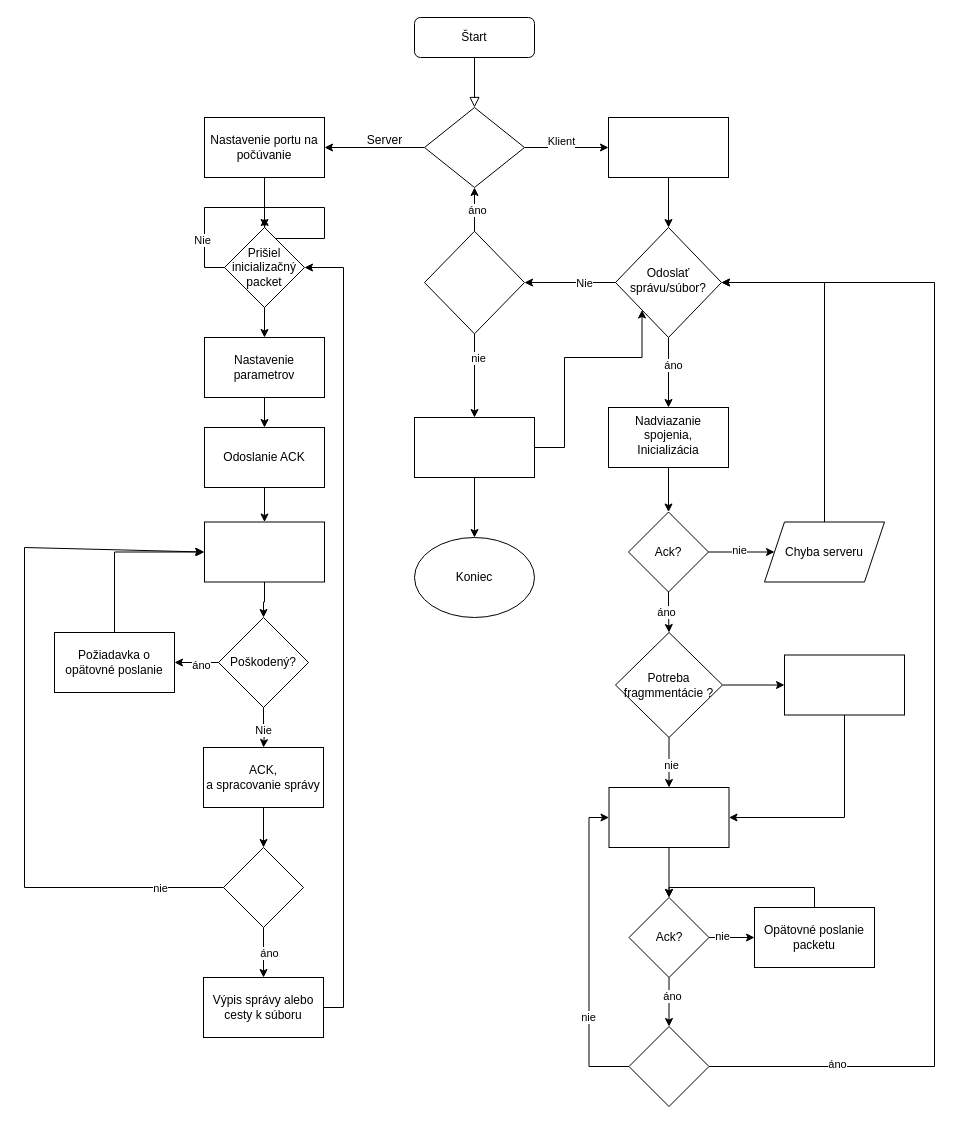
This 960x1124 diagram has some shape labels left out. Here are the shapes that lost their labels. From the top down, the centre of each, then its label:
(x=474, y=147): Server/Klient
(x=668, y=147): Nastavenie IP a portu servera, velkosť fragmentu
(x=474, y=282): Zmeniť rolu?
(x=474, y=447): začatie timeoutu
(x=264, y=551): Prijatie Packetu
(x=844, y=684): Rozdelenie na fragmenty
(x=668, y=817): Odoslanie packetu
(x=263, y=887): Posledný packet?
(x=668, y=1066): Posledný fragment?
